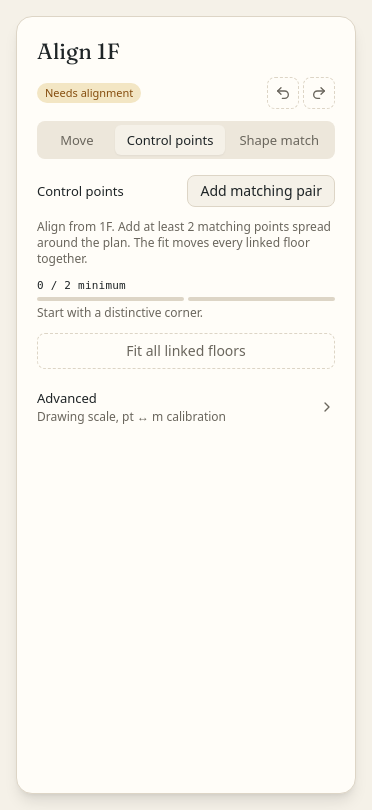
Scenario: apply and calibrate are disabled while the scale is locked
Click the button "Advanced Drawing scale, pt ↔ m calibration" at [186, 407], box 37,385 -> 335,429
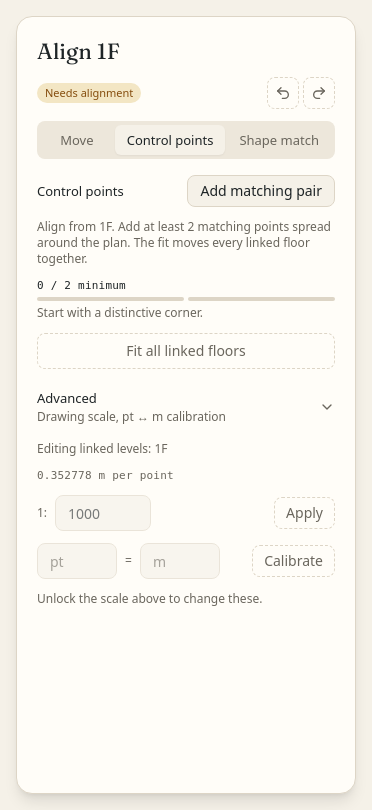
Check: the button "Apply" is disabled, box 274,497 -> 335,529
Check: the button "Calibrate" is disabled, box 252,545 -> 335,577
